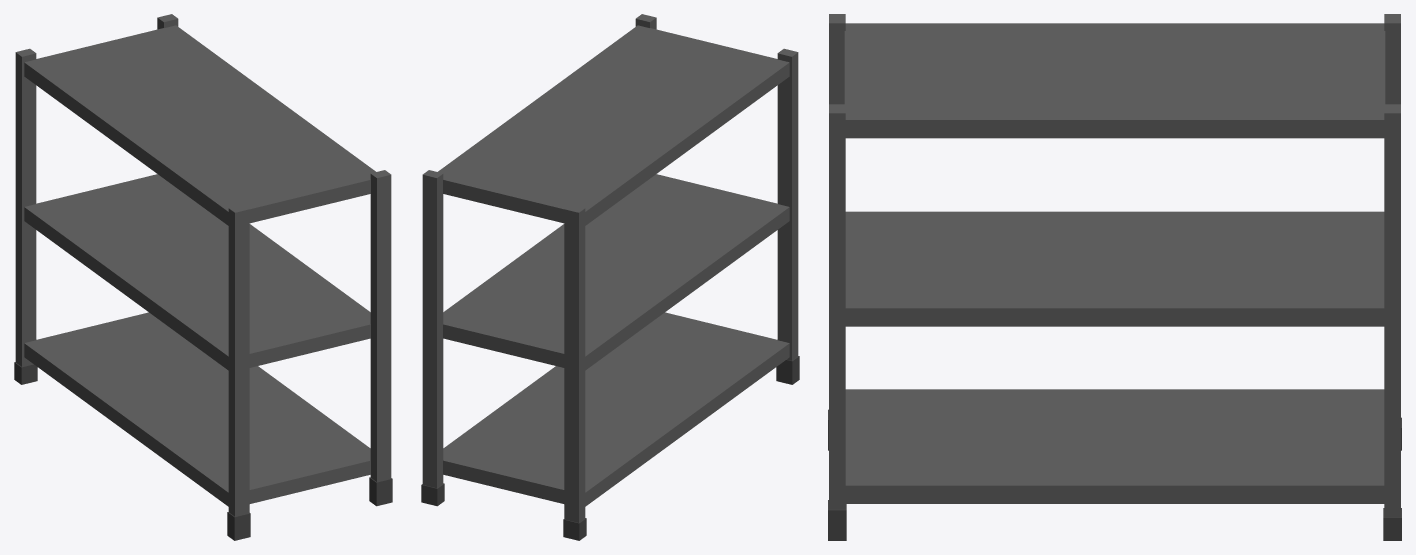
The model's file is StorageShelf.fbx.
The picture shows the model from 3 angles, left to right: view 1: azimuth 30°, elevation 25°; view 2: azimuth 150°, elevation 25°; view 3: azimuth 270°, elevation 25°; orthographic projection. The views are drawn at different scales.
Parts seen in each view (by area): view 1: StorageShelf_LOD0; view 2: StorageShelf_LOD0; view 3: StorageShelf_LOD0.
Boxes of the visible parts, x1=… form: StorageShelf_LOD0: x1=14, y1=14, x2=392, y2=540; StorageShelf_LOD0: x1=421, y1=14, x2=799, y2=540; StorageShelf_LOD0: x1=828, y1=14, x2=1401, y2=540.
Size of what is drawn, in the model's own units: 263 by 522 by 636.
Materials: 1 (1 with a texture image).
